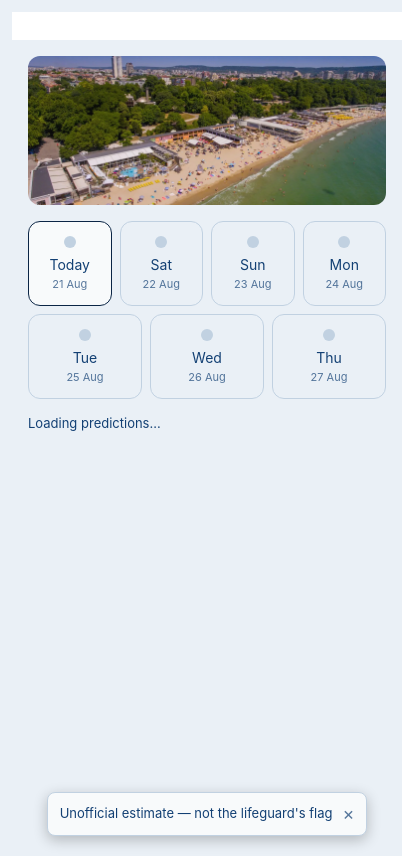
Scenario: BeachDetail › selecting a future Forecast Strip chip swaps Timeline for Day Outlook, and reselecting Today reverts
This screenshot has width=402, height=856.
Expected: the text "Loading predictions…" is shown, top-left (28, 415), bottom-right (161, 431)
Expected: the text "Loading forecast…" is not shown
Click the button with aria-label "loading forecast" at (161, 264), box top-left (120, 221), bottom-right (203, 306)
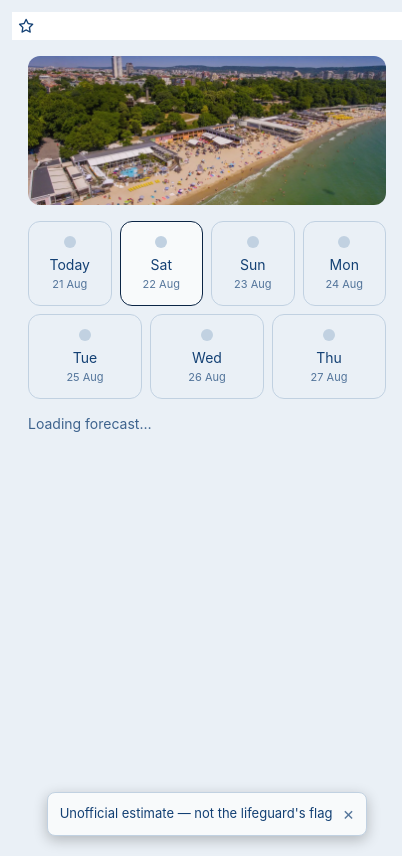
Now the text "Loading forecast…" is shown, box top-left (28, 415), bottom-right (152, 432)
Now the text "Loading predictions…" is gone
# Selecting Today again reverts to the original Timeline area, unchanged.
Click the button with aria-label "Today: loading forecast" at (70, 264), box top-left (28, 221), bottom-right (112, 306)
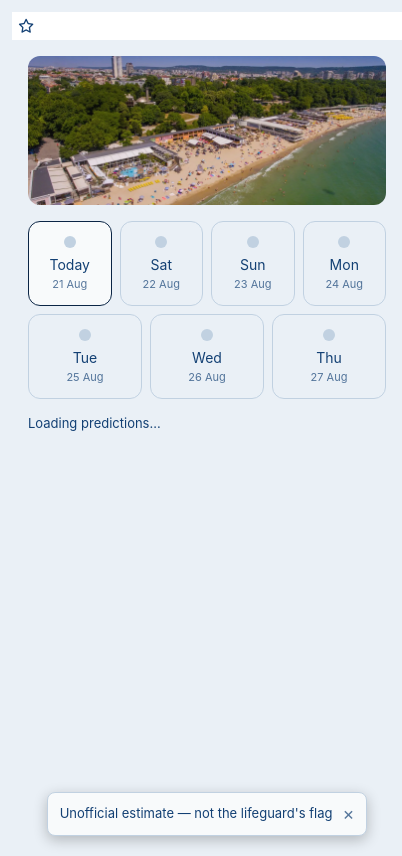
Now the text "Loading predictions…" is shown, box top-left (28, 415), bottom-right (161, 431)
Now the text "Loading forecast…" is gone
